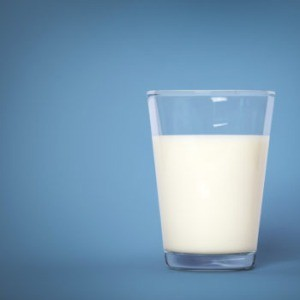milk_brain food: (161, 142, 256, 245)
